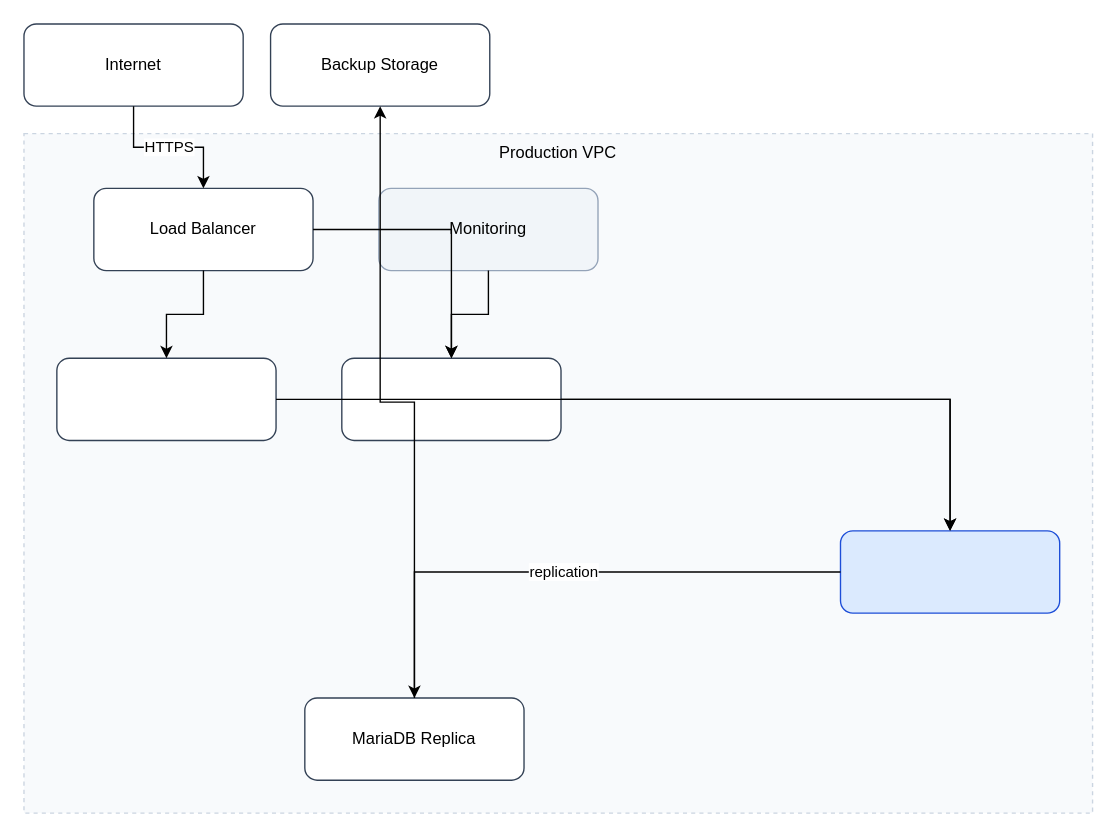
Image size: 1117x837. Some labels were removed from this diagram. The shapes that lost their labels are listed below. From the top down, each one's centre as x and y in pixels, then its label:
At (165,398): "Web 02".
At (450,398): "Web 01".
At (949,571): "MariaDB".
